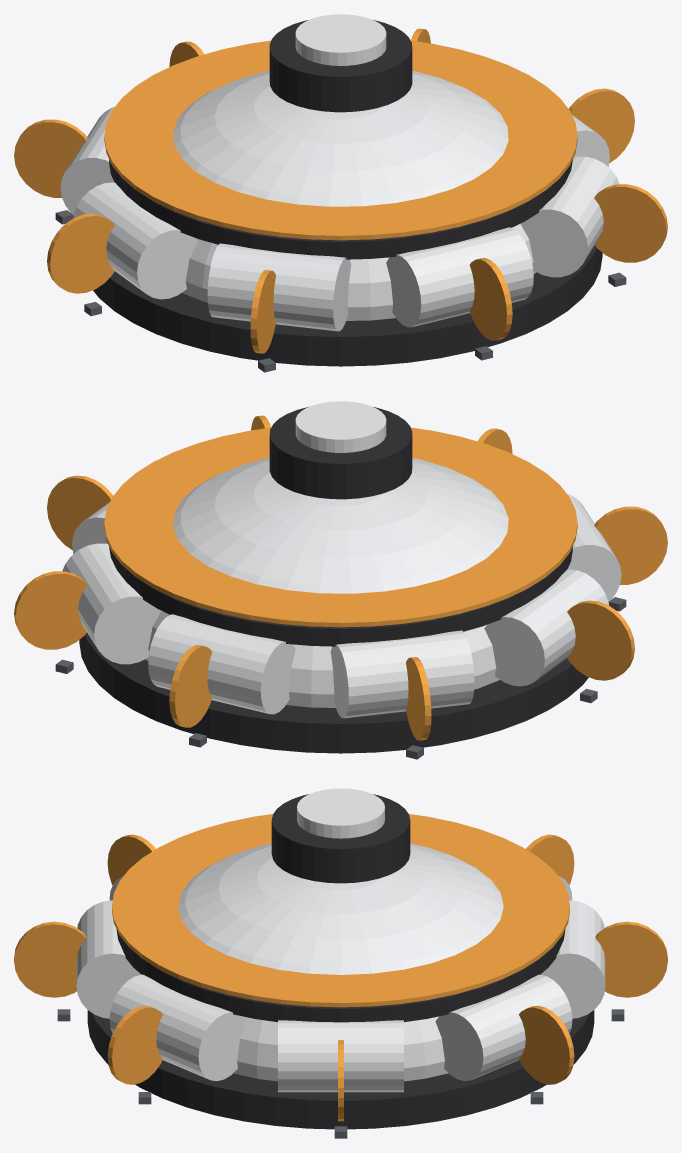
Rendered from SM_CommandDome_CentralHub.glb.
The picture shows the model from 3 angles, top to bottom: view 1: azimuth 30°, elevation 25°; view 2: azimuth 150°, elevation 25°; view 3: azimuth 270°, elevation 25°; orthographic projection. The views are drawn at different scales.
Visible parts, largest first — view 1: SM_CommandDome_CentralHub; view 2: SM_CommandDome_CentralHub; view 3: SM_CommandDome_CentralHub.
Boxes of the visible parts, left/top/right/bottom form: SM_CommandDome_CentralHub: left=14, top=14, right=667, bottom=372; SM_CommandDome_CentralHub: left=14, top=401, right=667, bottom=759; SM_CommandDome_CentralHub: left=14, top=788, right=667, bottom=1138.
Size of the model in its own units: 20.78 by 9.9 by 20.78.
